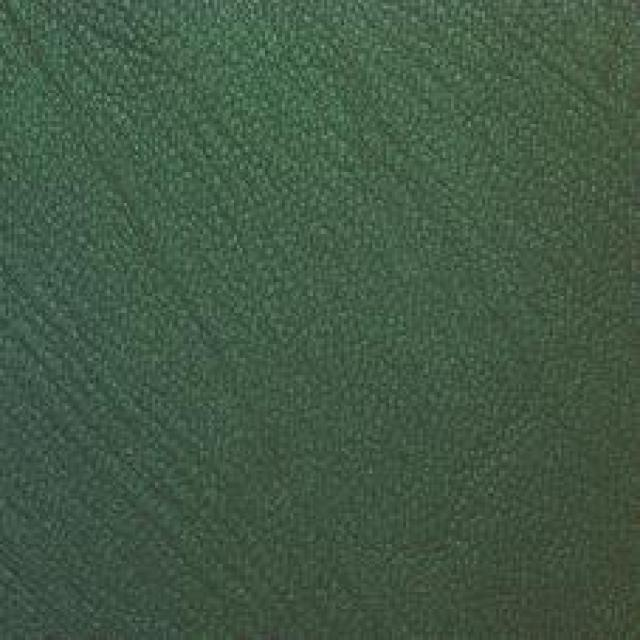Growth Marks: (39, 336, 198, 532), (137, 55, 295, 184)
